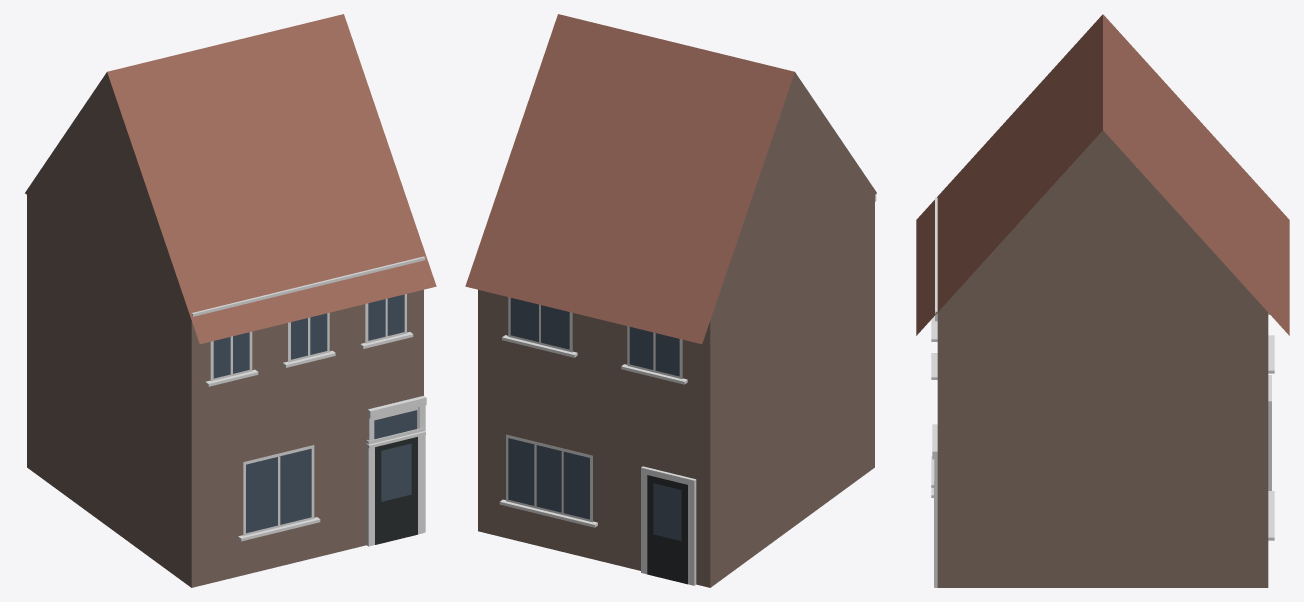
Rendered from nn-row-small__small-grey__2__gable__long__solid__mirror.glb.
3 renders of one model, left to right at view 1: azimuth 30°, elevation 25°; view 2: azimuth 150°, elevation 25°; view 3: azimuth 270°, elevation 25°, orthographic.
Visible parts, largest first — view 1: nn-row-small__small-grey__2__gable__long__solid__mirror; view 2: nn-row-small__small-grey__2__gable__long__solid__mirror; view 3: nn-row-small__small-grey__2__gable__long__solid__mirror.
Part boxes in pixels (x1,y1,x2,y2): nn-row-small__small-grey__2__gable__long__solid__mirror: [25, 14, 436, 587]; nn-row-small__small-grey__2__gable__long__solid__mirror: [465, 14, 876, 587]; nn-row-small__small-grey__2__gable__long__solid__mirror: [916, 14, 1289, 587].
Size of the model in its own units: 5.23 by 9.63 by 7.1.
